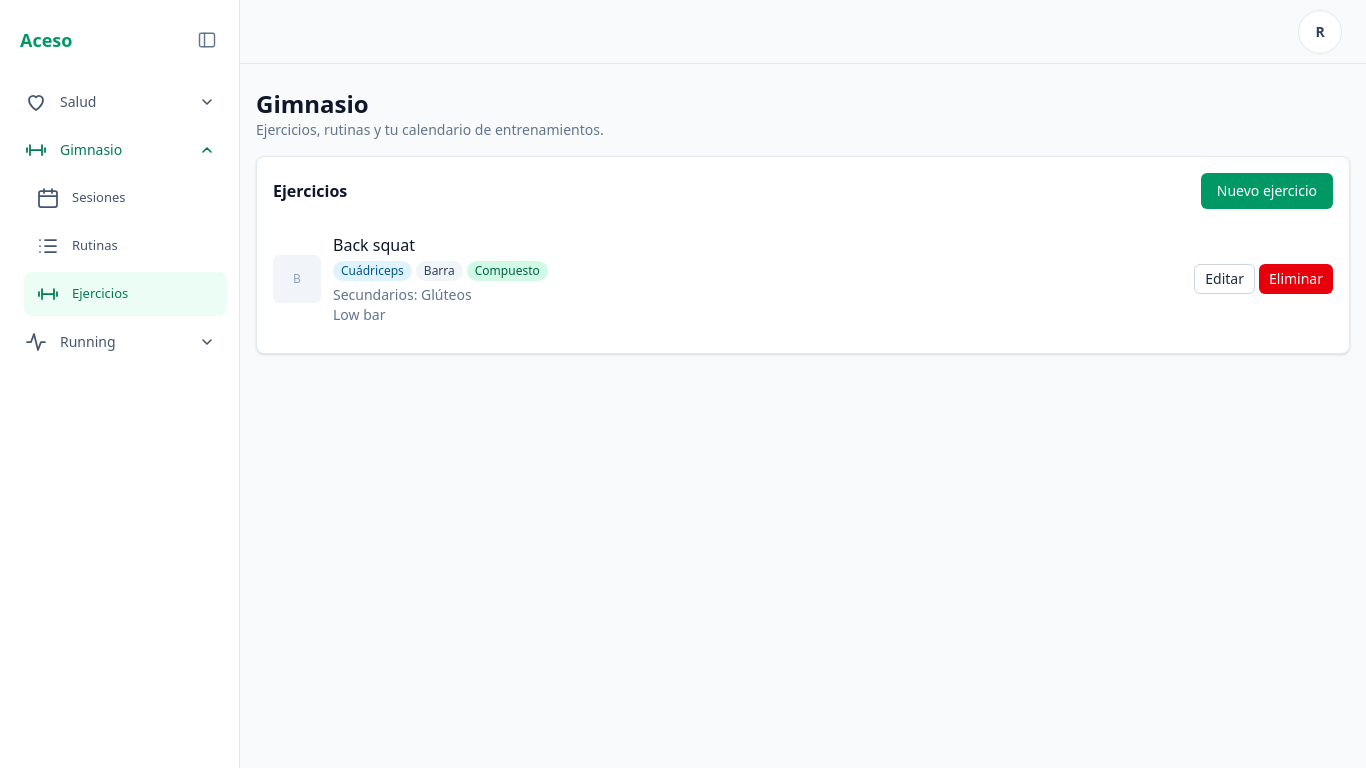
Test: exercises › shows the conflict message when deleting an exercise in use
Click the button with aria-label "Eliminar Back squat".
click(1296, 279)  # box x1=1259 y1=264 x2=1333 y2=294
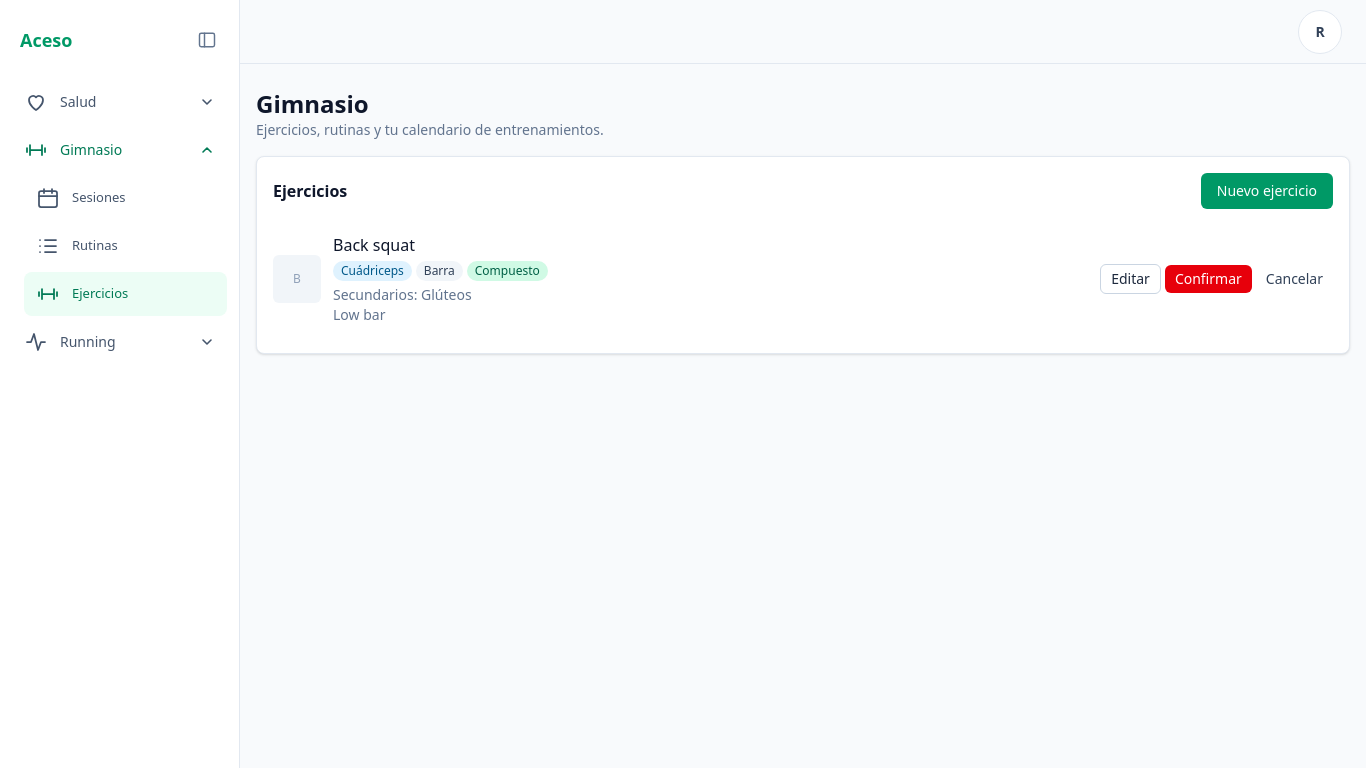
Click the button "Confirmar".
click(1208, 279)  # box x1=1165 y1=265 x2=1252 y2=293
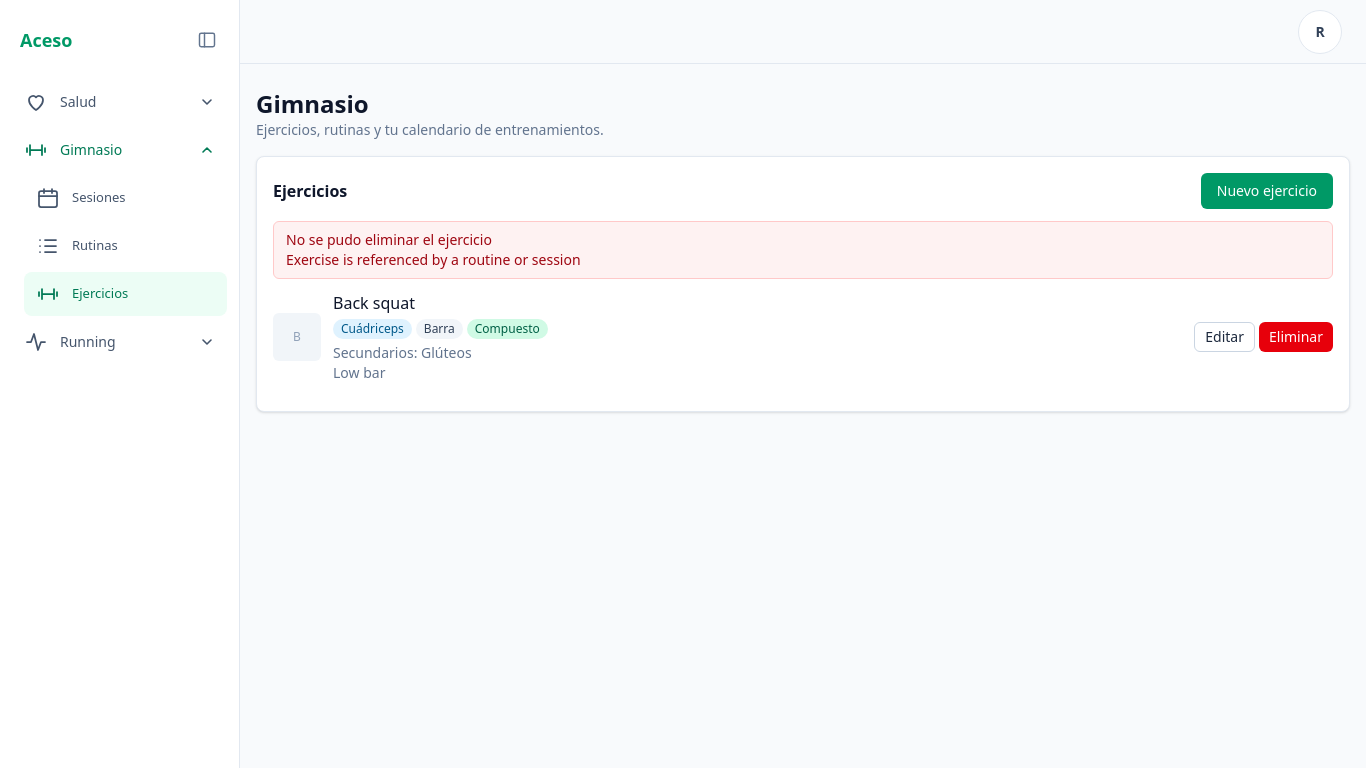
Now the text "Exercise is referenced by a routine or session" is shown, box x1=286 y1=250 x2=581 y2=269
